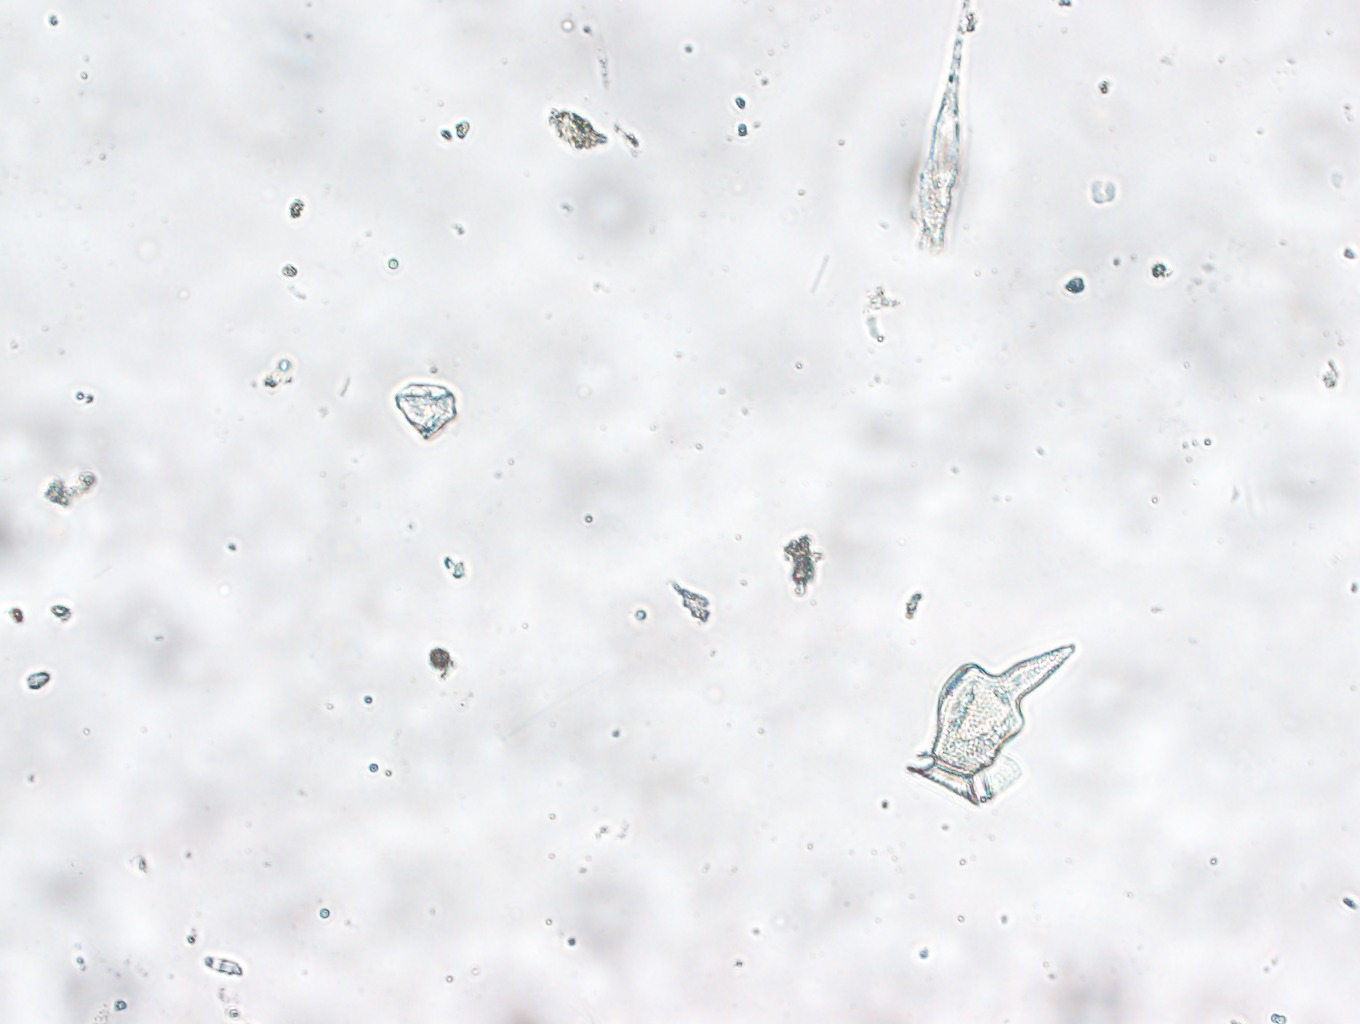dinophysis caudata: (906, 645, 1076, 808)
